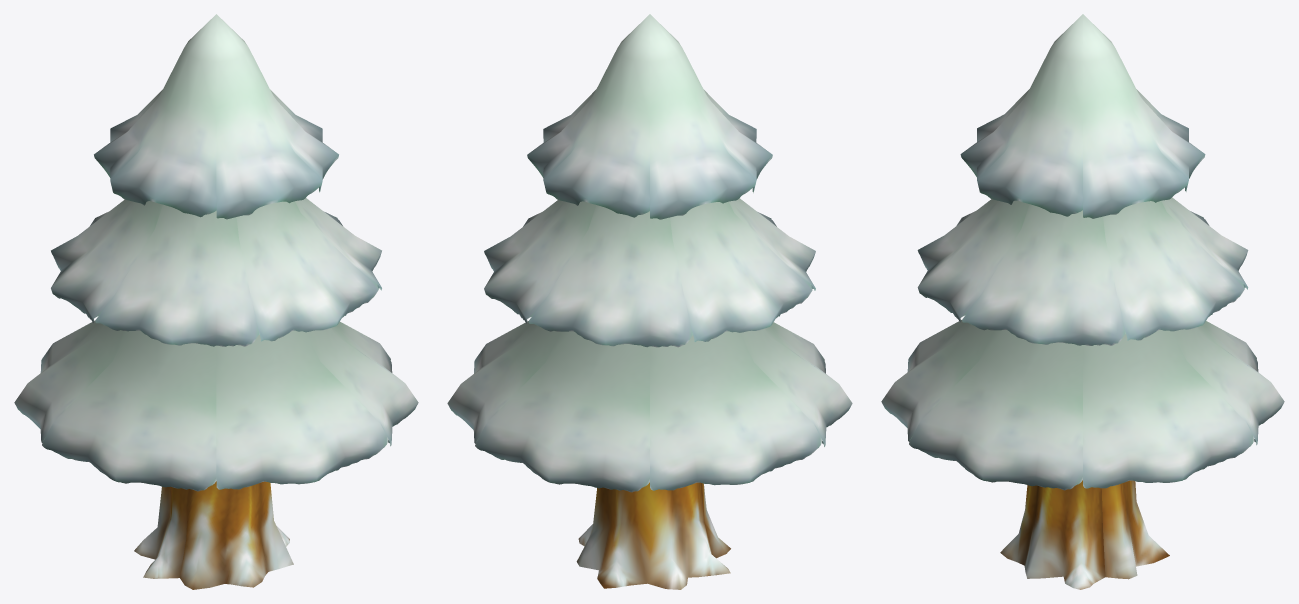
Rendered from Tree 2 - Snow.fbx.
3 views of the same model, side by side, from view 1: azimuth 30°, elevation 25°; view 2: azimuth 150°, elevation 25°; view 3: azimuth 270°, elevation 25° (orthographic).
Parts seen in each view (by area): view 1: tree2_snow; view 2: tree2_snow; view 3: tree2_snow.
Part boxes in pixels (x1,y1,x2,y2): tree2_snow: (14,14,418,589); tree2_snow: (447,14,852,589); tree2_snow: (881,14,1284,589).
Size of the model in its own units: 1.34 by 1.99 by 1.34.
